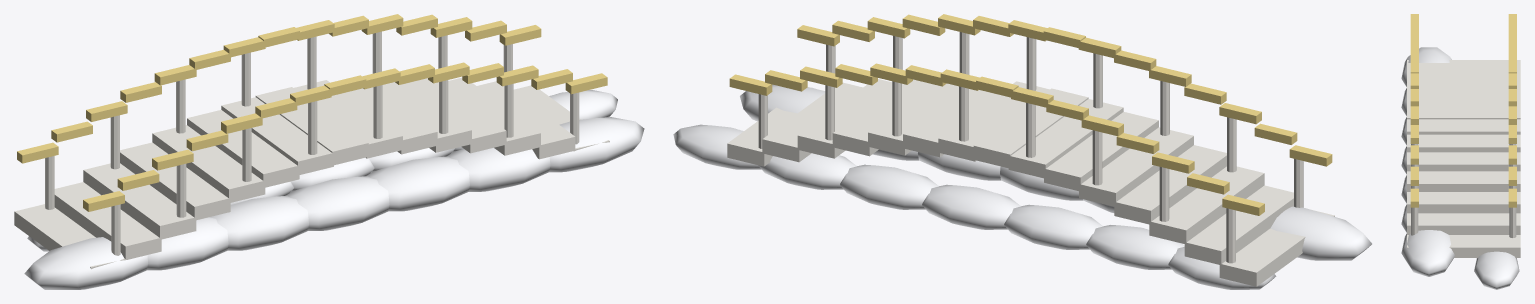
File: mythic-underworld-and-olympus-sky-bridge-9490128c__21388.glb
3 renders of one model, left to right at view 1: azimuth 30°, elevation 25°; view 2: azimuth 150°, elevation 25°; view 3: azimuth 270°, elevation 25°, orthographic. The views are drawn at different scales.
Parts seen in each view (by area): view 1: sky-bridge; view 2: sky-bridge; view 3: sky-bridge.
Part boxes in pixels (<box>): sky-bridge: <box>14,14,644,289</box>; sky-bridge: <box>673,14,1371,289</box>; sky-bridge: <box>1401,14,1520,289</box>.
Bounding box in the file's own units: 10.49 × 2.43 × 2.31.
